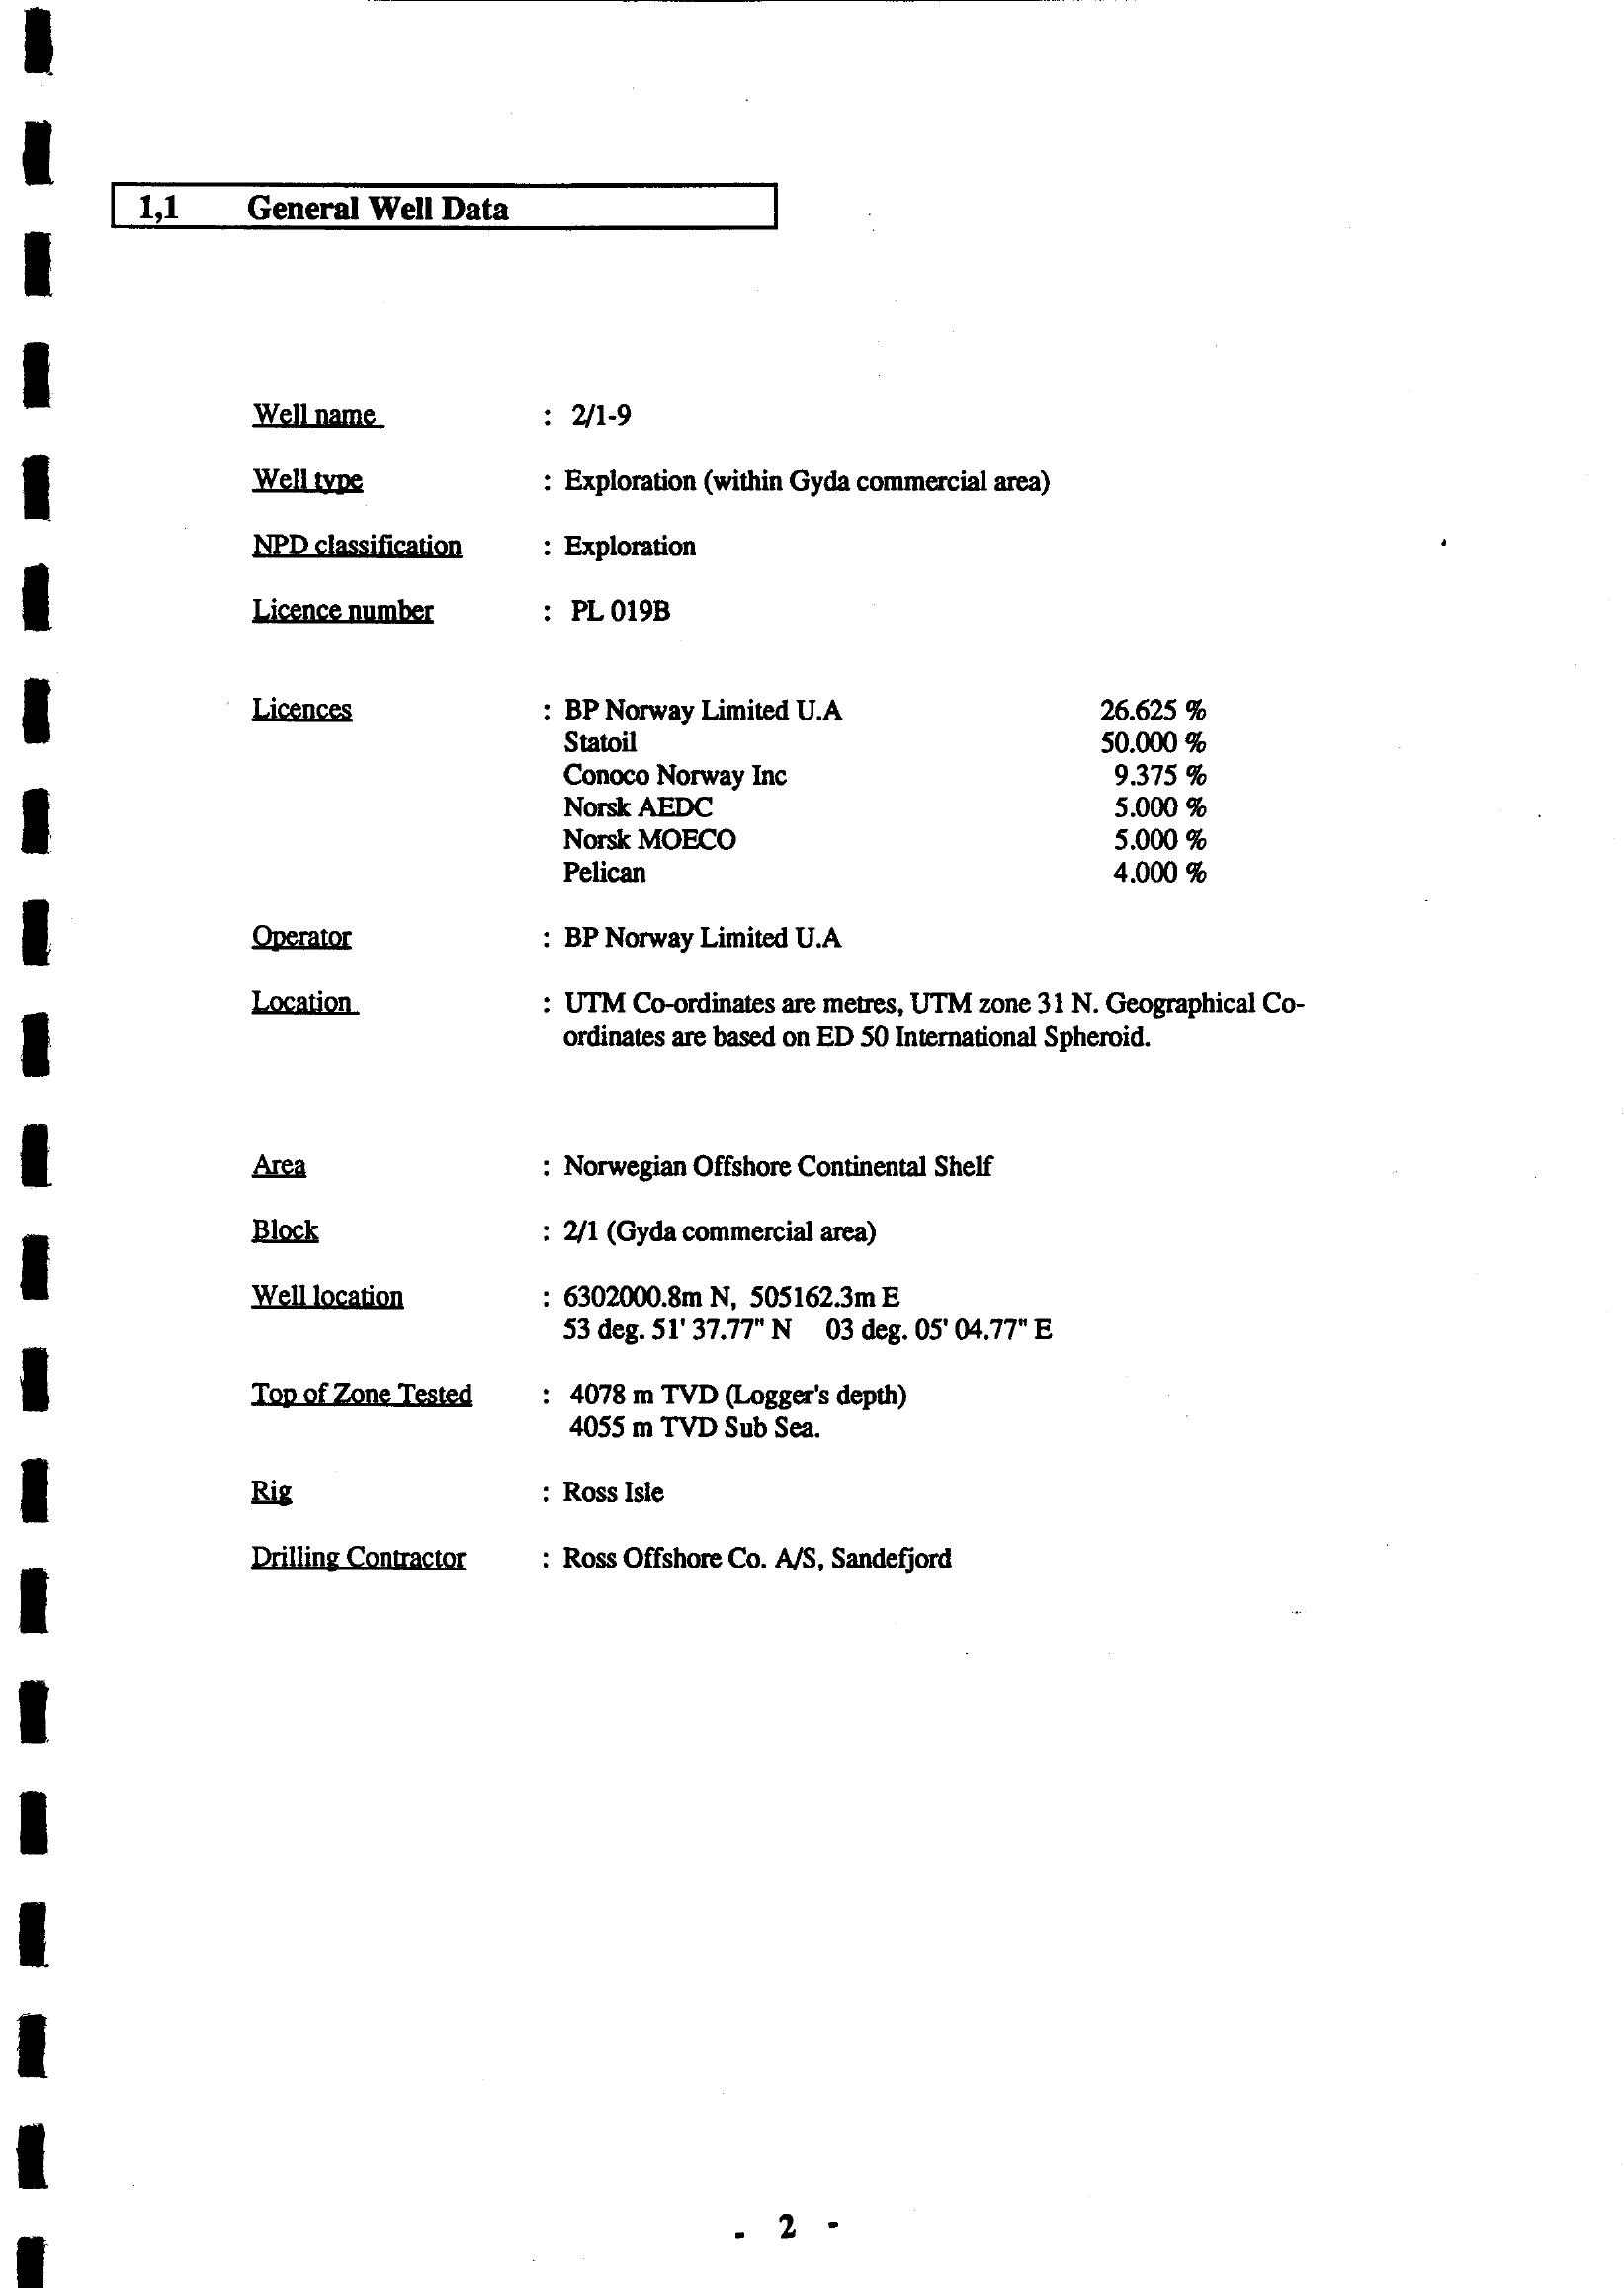text: (95, 128, 1374, 1666)
